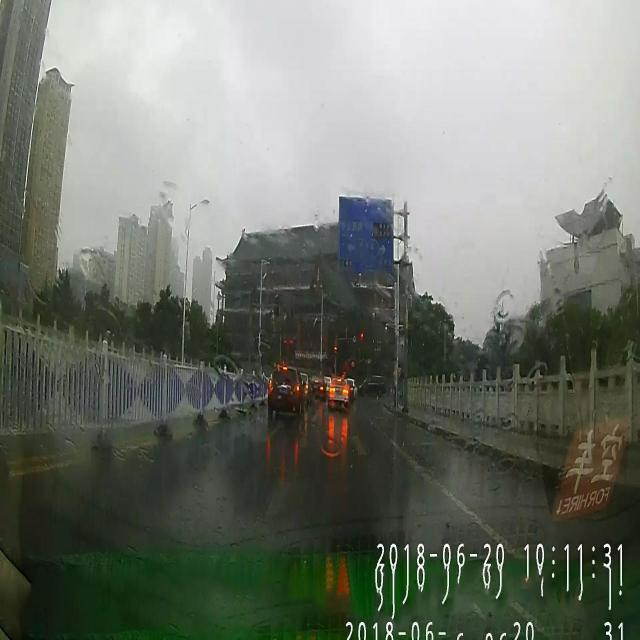car: (268, 359, 304, 422), (326, 370, 350, 410), (358, 373, 386, 400)
